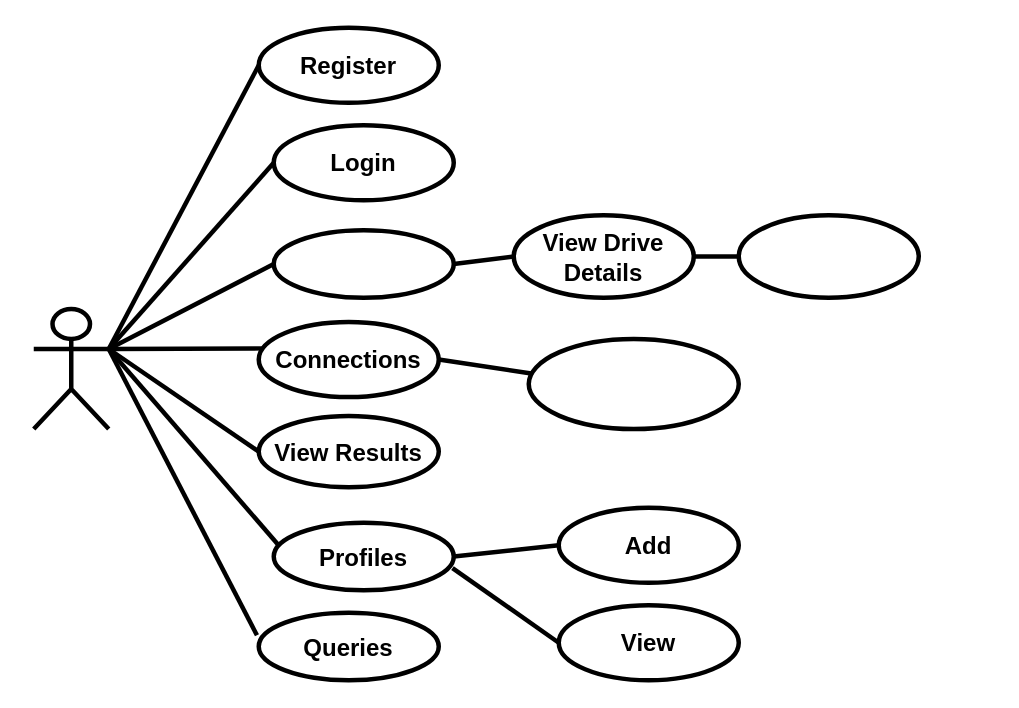
This 1019x708 diagram has some shape labels left out. Here are the shapes that lost their labels. From the top down, the centre of each, then its label:
At pixel 363 263: "Drives".
At pixel 828 255: "Apply for Drive".
At pixel 70 368: "Student".
At pixel 633 383: "View Company Profiles".
